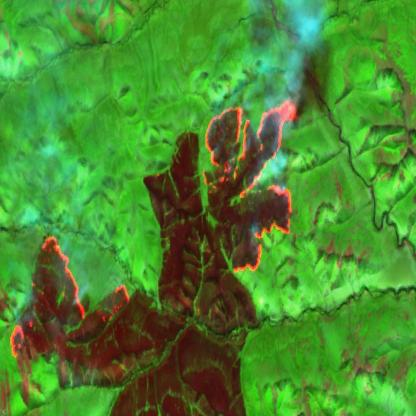fire: (202, 98, 302, 278), (6, 232, 132, 361)
